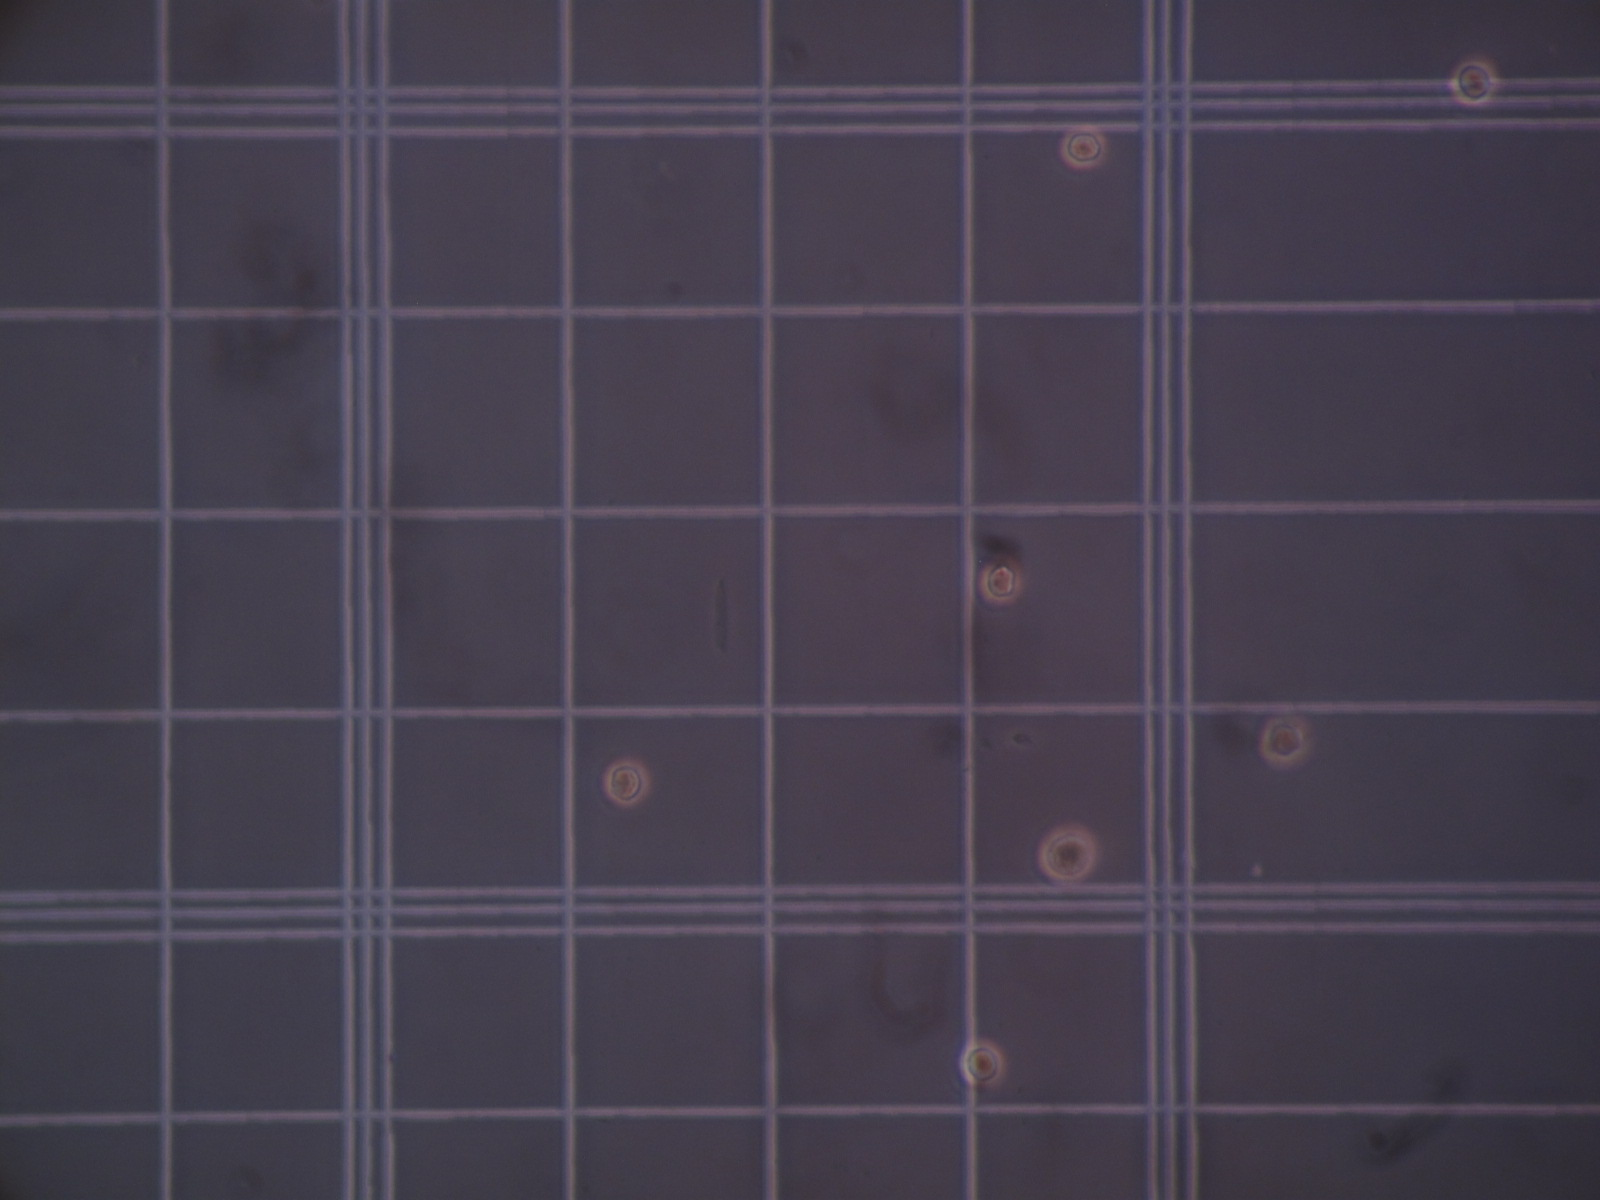hemo: (1038, 824, 1097, 884), (1259, 716, 1310, 765), (959, 1039, 1005, 1087), (1449, 59, 1497, 106), (603, 759, 650, 807), (1060, 126, 1107, 169), (980, 556, 1022, 604)
